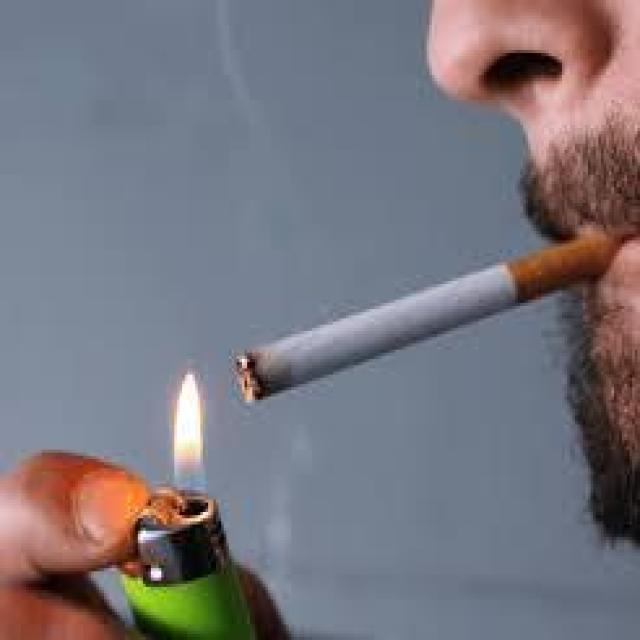cigarette: (234, 237, 624, 406)
